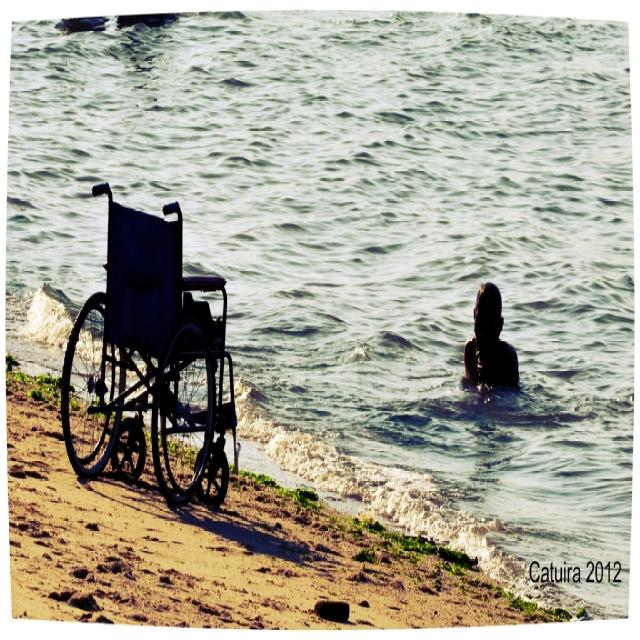wheelchairs: (63, 177, 240, 512)
